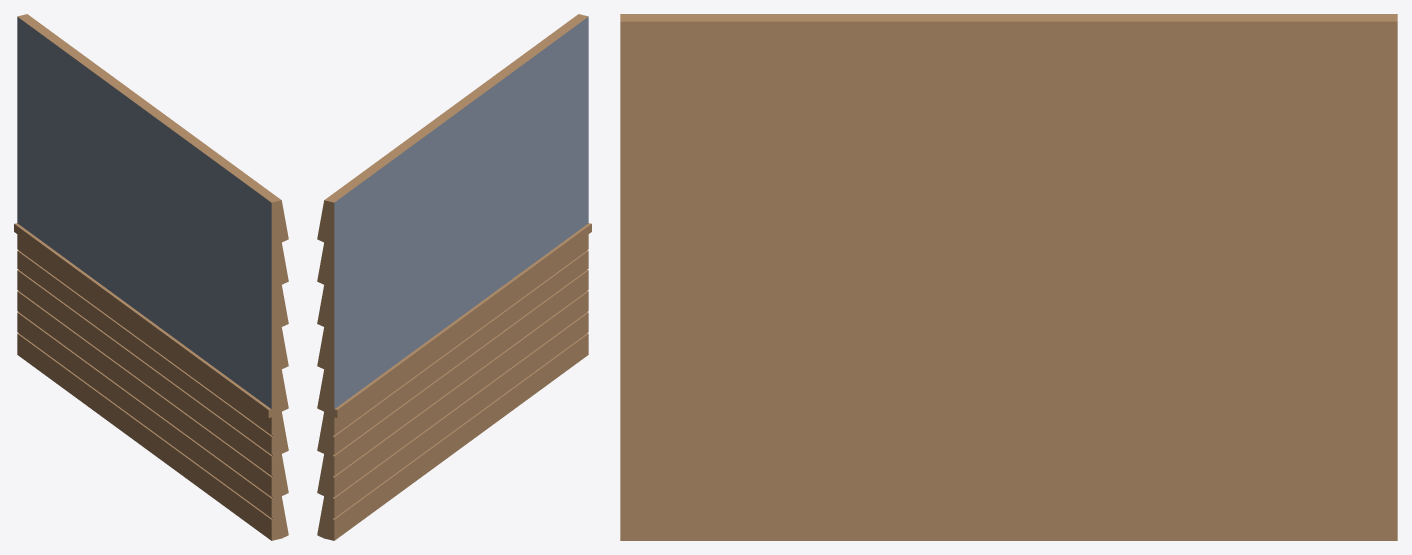
File: Wall C-col.glb
3 renders of one model, left to right at view 1: azimuth 30°, elevation 25°; view 2: azimuth 150°, elevation 25°; view 3: azimuth 270°, elevation 25°, orthographic. The views are drawn at different scales.
Visible parts, largest first — view 1: Wall C-col.001; view 2: Wall C-col.001; view 3: Wall C-col.001.
Part boxes in pixels (left/top/right/bottom): Wall C-col.001: left=14, top=14, right=288, bottom=540; Wall C-col.001: left=317, top=14, right=591, bottom=540; Wall C-col.001: left=620, top=14, right=1397, bottom=540.
Bounding box in the file's own units: 0.1378 × 2.2 × 3.
